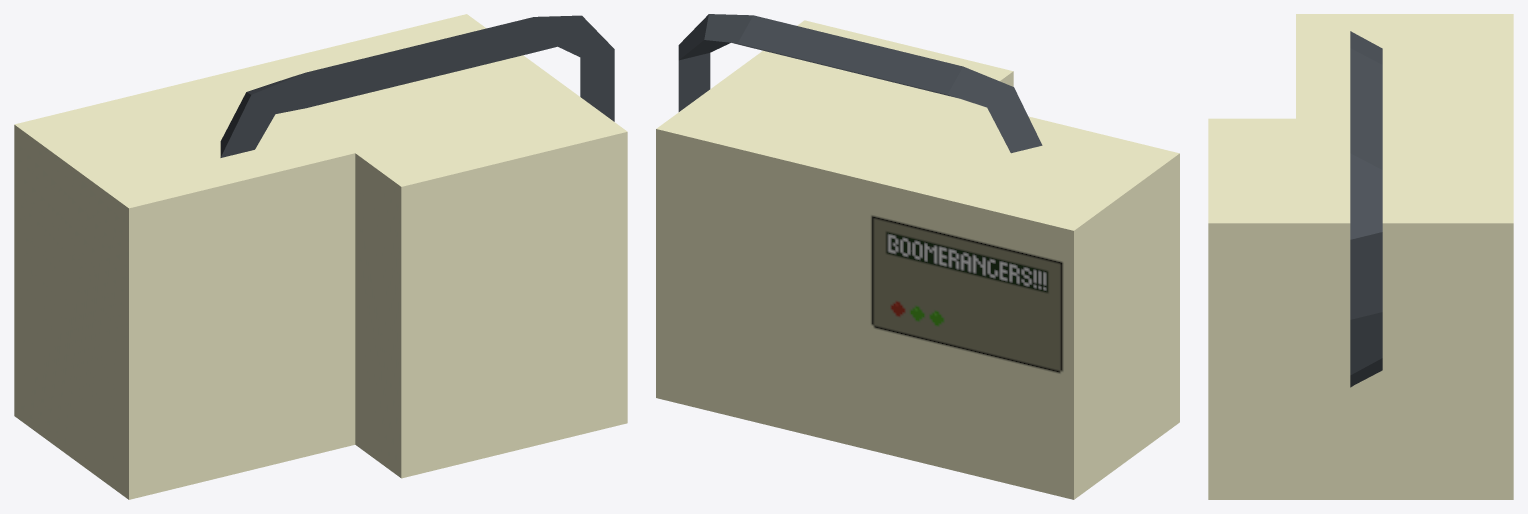
File: electricBox2.fbx
3 renders of one model, left to right at view 1: azimuth 30°, elevation 25°; view 2: azimuth 150°, elevation 25°; view 3: azimuth 270°, elevation 25°, orthographic. The views are drawn at different scales.
Parts seen in each view (by area): view 1: Cube; view 2: Cube; view 3: Cube.
Part boxes in pixels (box(x1,y1,x2,y2)): Cube: box(14, 14, 627, 499); Cube: box(656, 14, 1179, 499); Cube: box(1208, 14, 1513, 499).
Size of the model in its own units: 369 by 244 by 200.
Materials: 1 (1 with a texture image).
